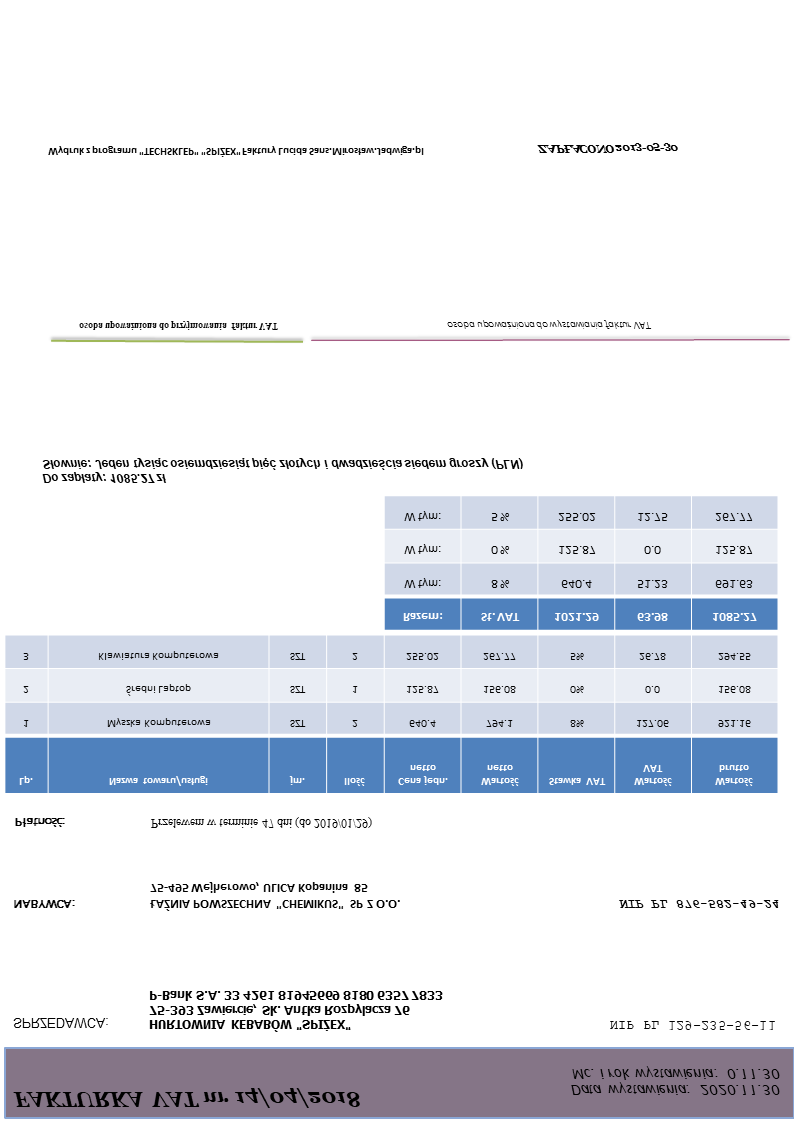Table: (2, 636, 780, 795), (382, 495, 778, 631)
TextBox: (39, 453, 526, 487), (147, 985, 444, 1032), (10, 1083, 365, 1113), (146, 880, 403, 912), (567, 1065, 785, 1099), (44, 143, 427, 160), (148, 815, 375, 832), (73, 318, 281, 334), (616, 895, 780, 913), (444, 319, 652, 333), (606, 1016, 777, 1033), (534, 139, 681, 157), (10, 1015, 110, 1033), (9, 897, 76, 912), (10, 814, 68, 830)
